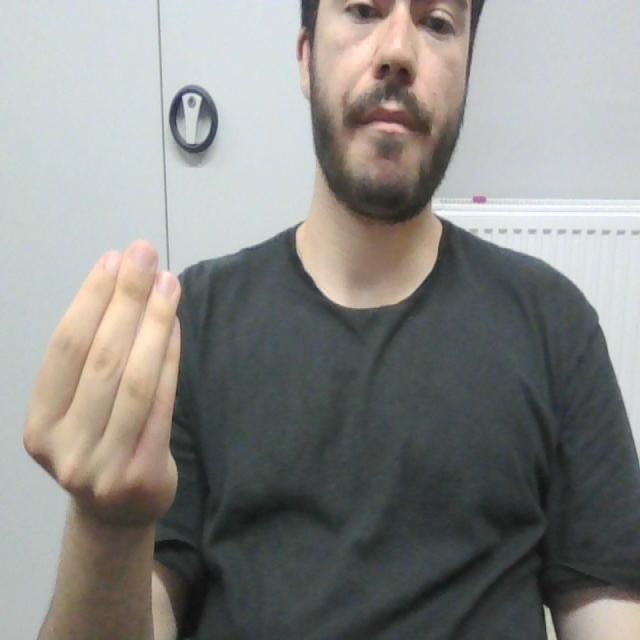iyi: (20, 234, 189, 506)
